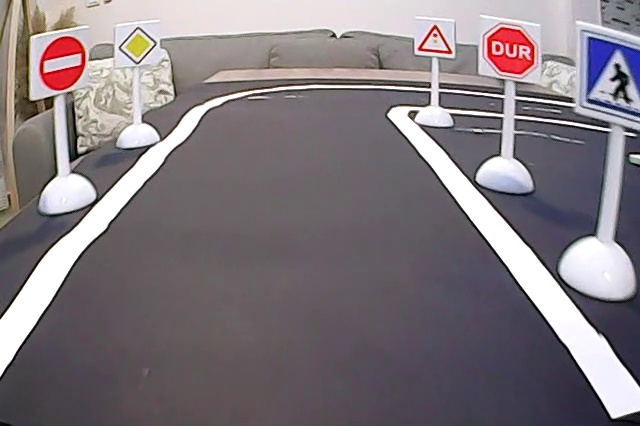do not enter: (29, 38, 94, 93)
pedestrian crossing: (577, 26, 640, 123)
red light: (414, 18, 456, 58)
stop sign: (481, 17, 543, 81)
